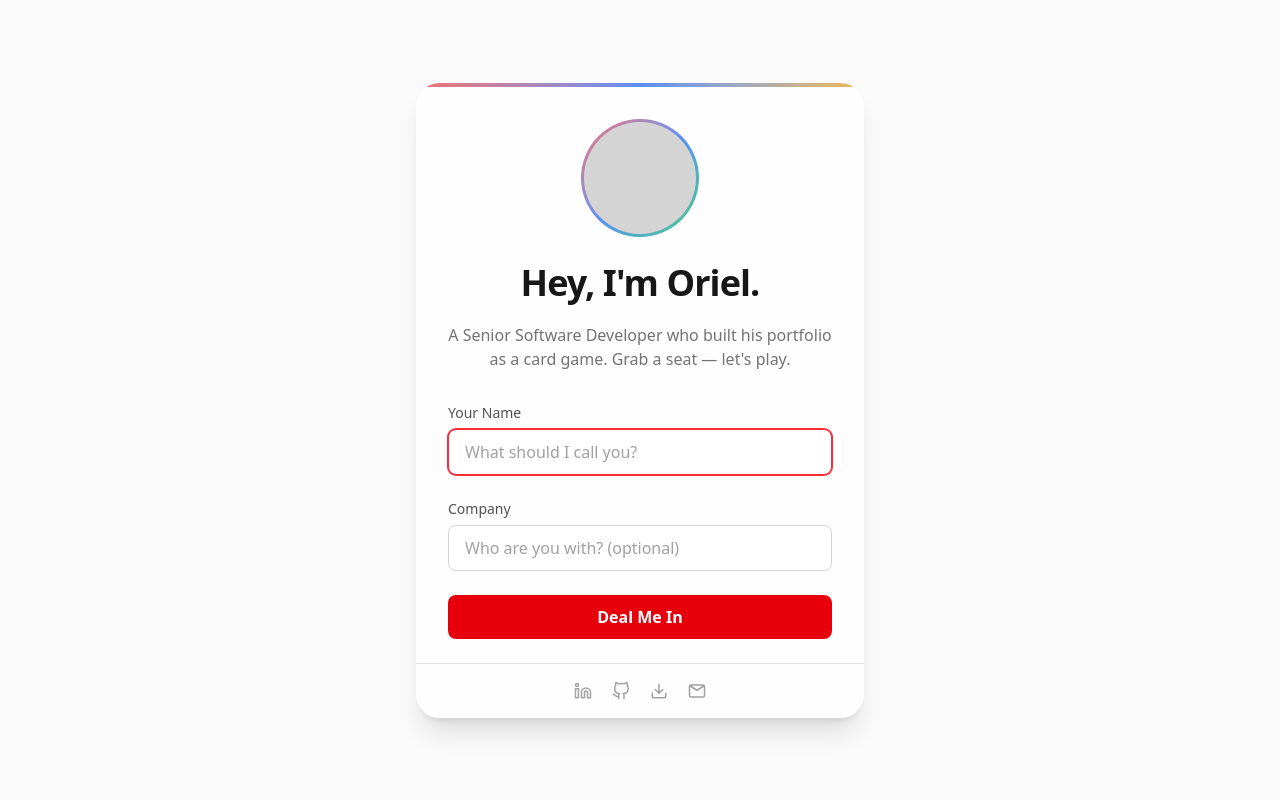
WelcomeScreen › shows error when submitting with empty name
Step 1. Click the button "Deal Me In" → (640, 616), box [448,594,832,638]
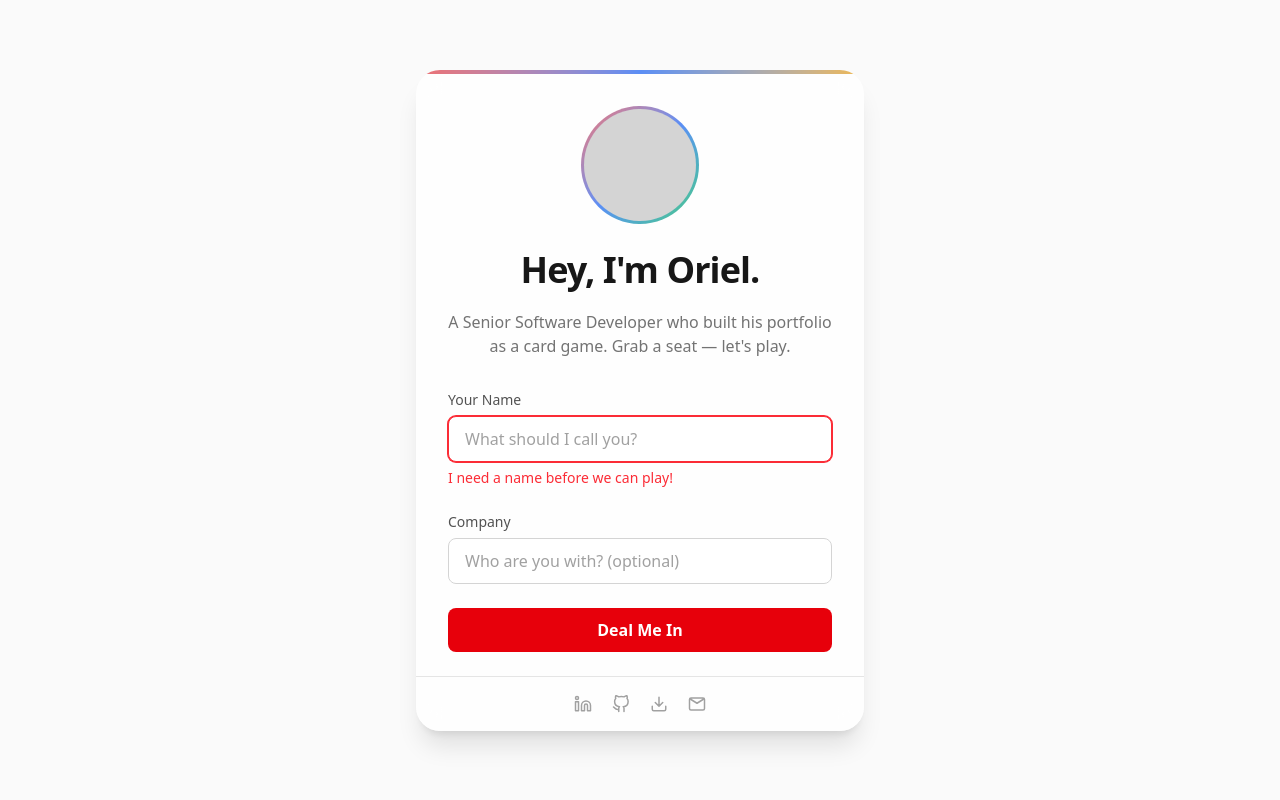
Expected: the message reads "I need a name before we can play!", [448,468,673,486]
